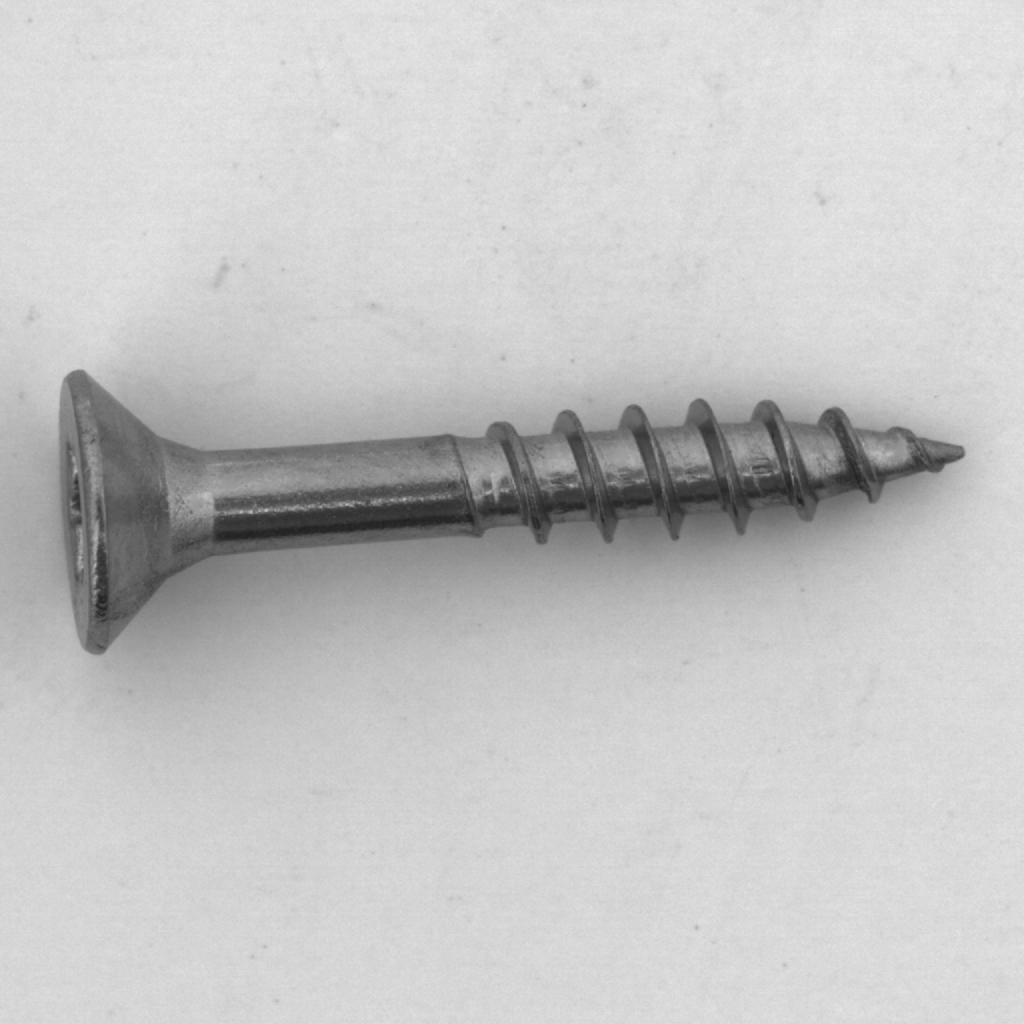good: (45, 351, 977, 673)
